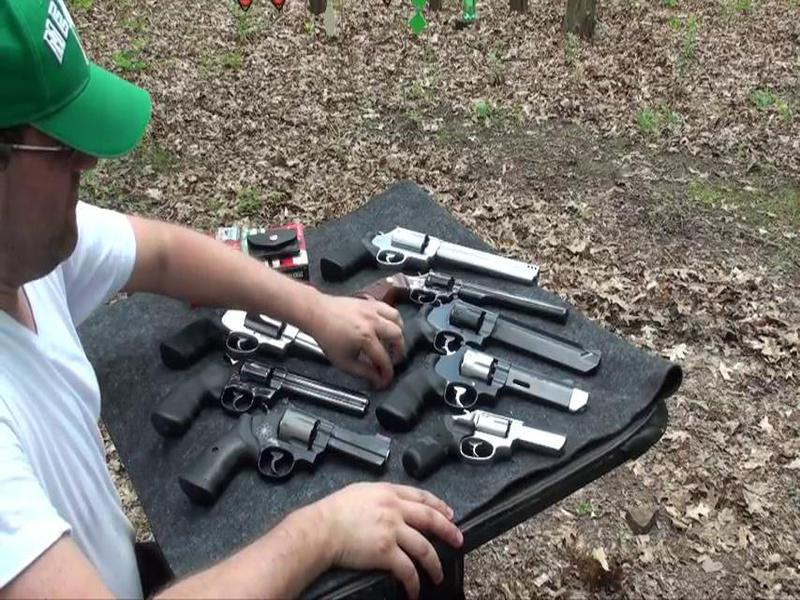Revolver: (137, 364, 382, 434)
